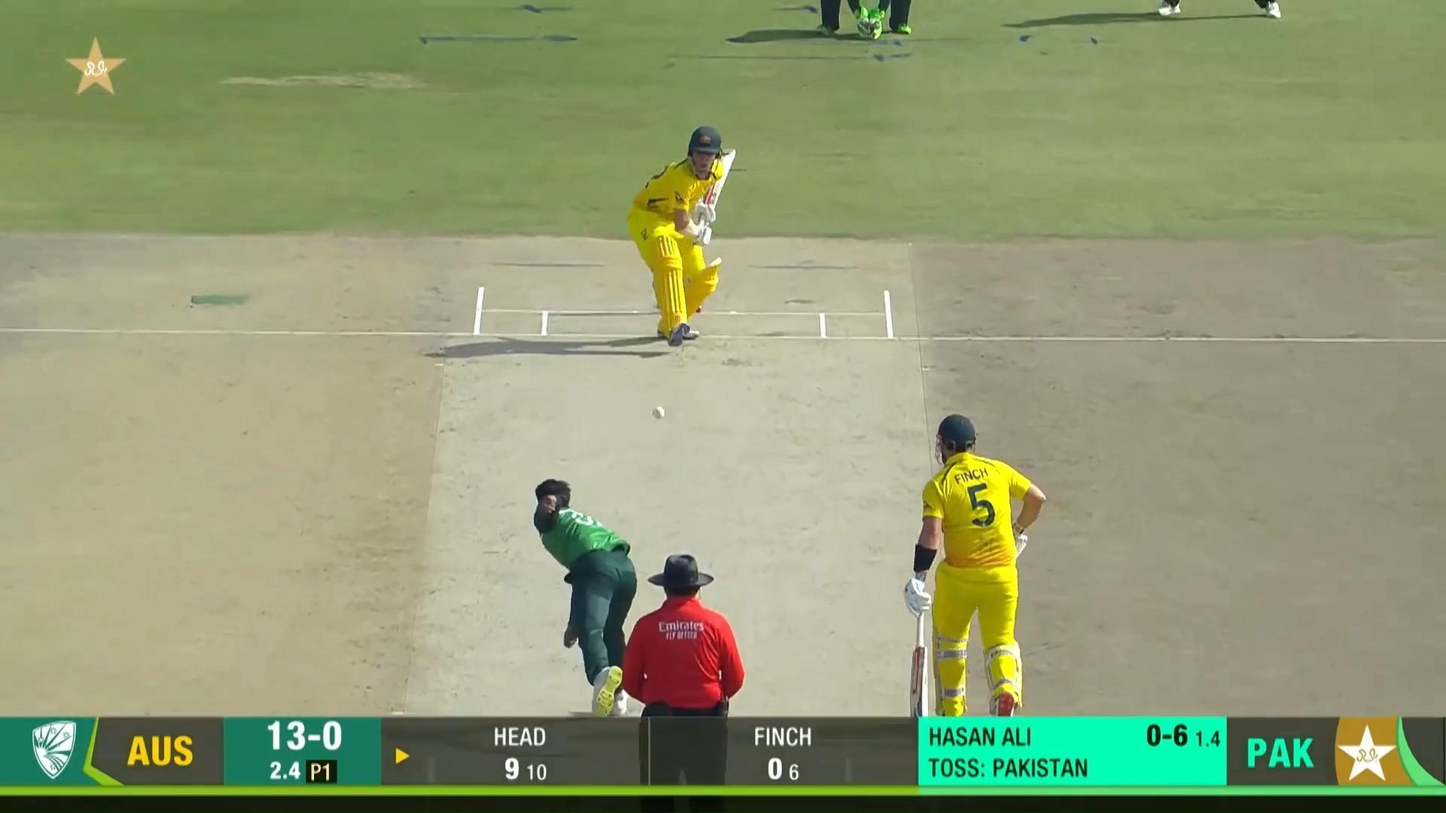BM 1: (627, 126, 738, 347)
BO: (532, 478, 639, 716)
